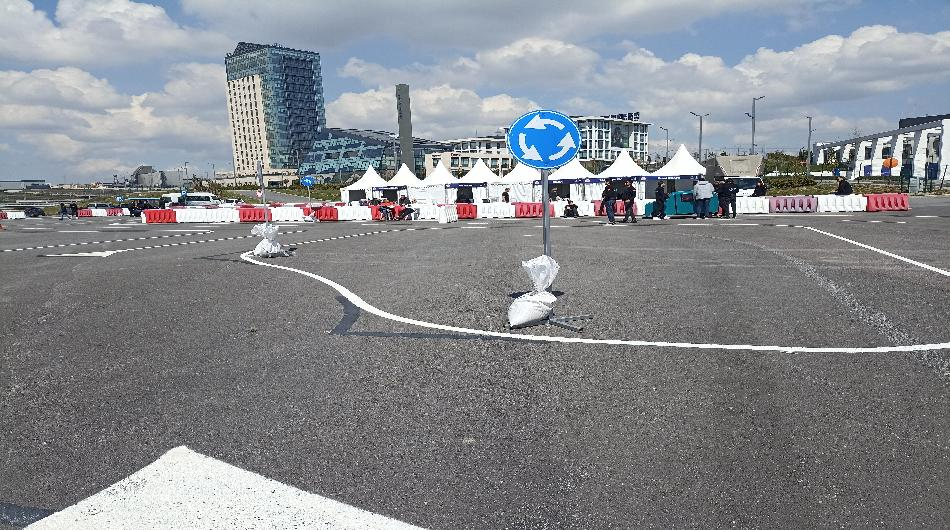ada: (509, 108, 580, 167)
